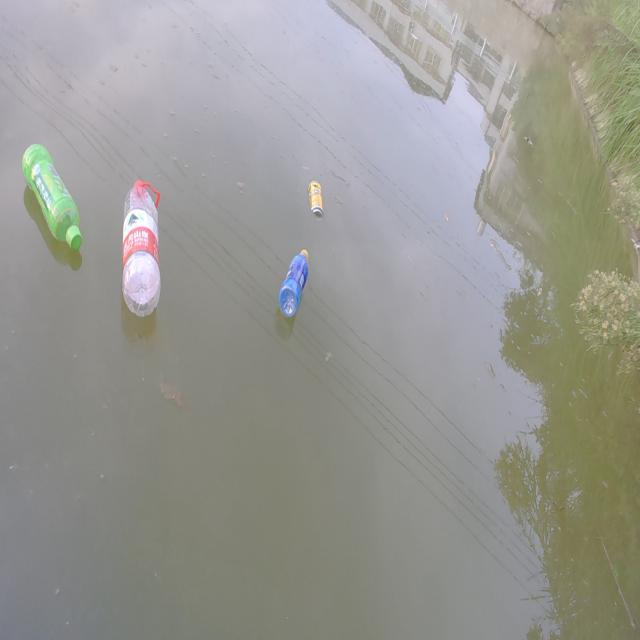bottle: (11, 118, 98, 263), (107, 158, 175, 327), (265, 235, 319, 324)
